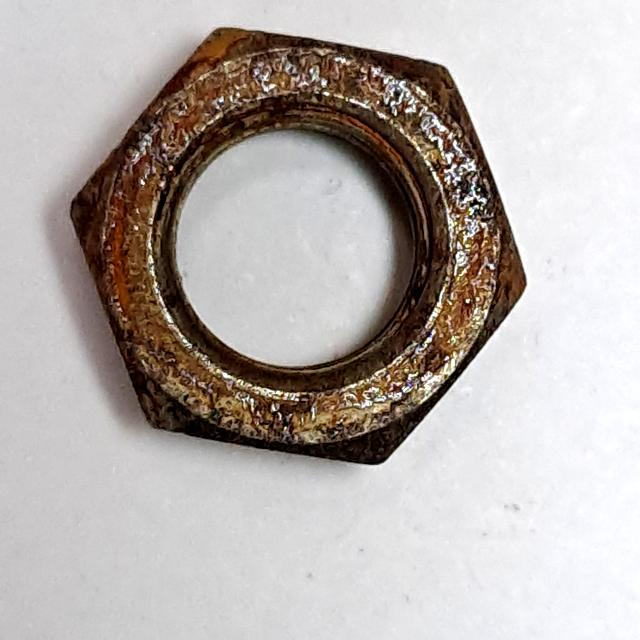Rust: (60, 17, 549, 478)
